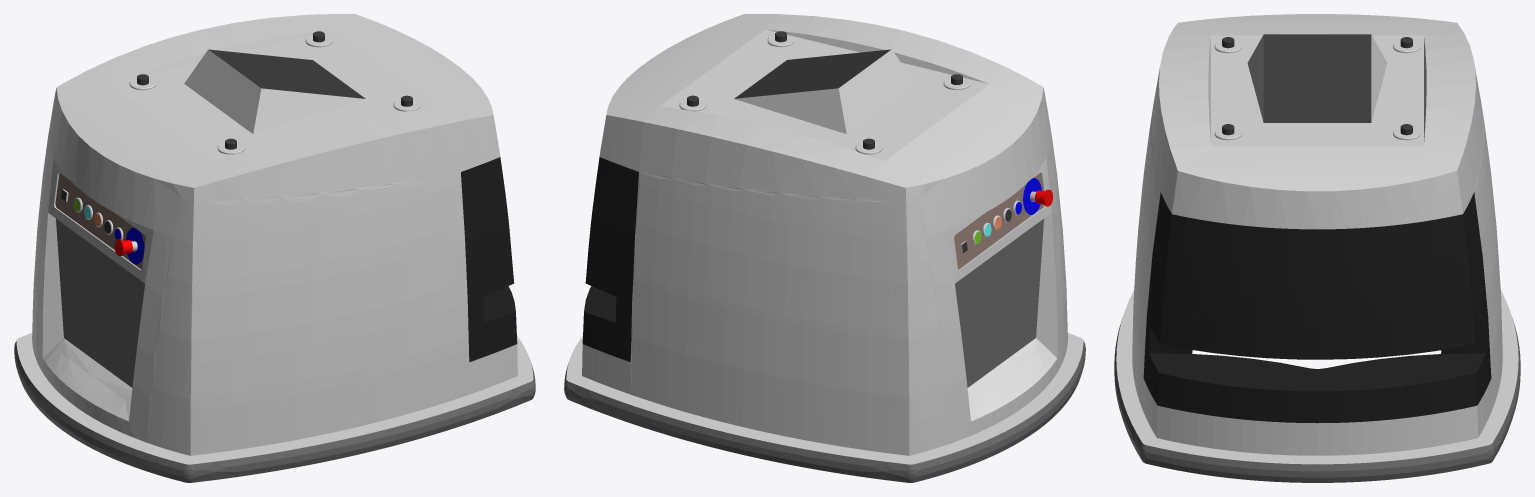
The model's file is chassis.dae.
3 views of the same model, side by side, from view 1: azimuth 30°, elevation 25°; view 2: azimuth 150°, elevation 25°; view 3: azimuth 270°, elevation 25° (orthographic).
Parts seen in each view (by area): view 1: SketchUp (×8); view 2: SketchUp (×8); view 3: SketchUp (×6).
Part boxes in pixels (left/top/right/bottom): SketchUp (×8): left=14, top=14, right=535, bottom=482; SketchUp (×8): left=564, top=14, right=1085, bottom=482; SketchUp (×6): left=1114, top=14, right=1520, bottom=482.
Size of the model in its own units: 28.82 by 23.31 by 20.47.
